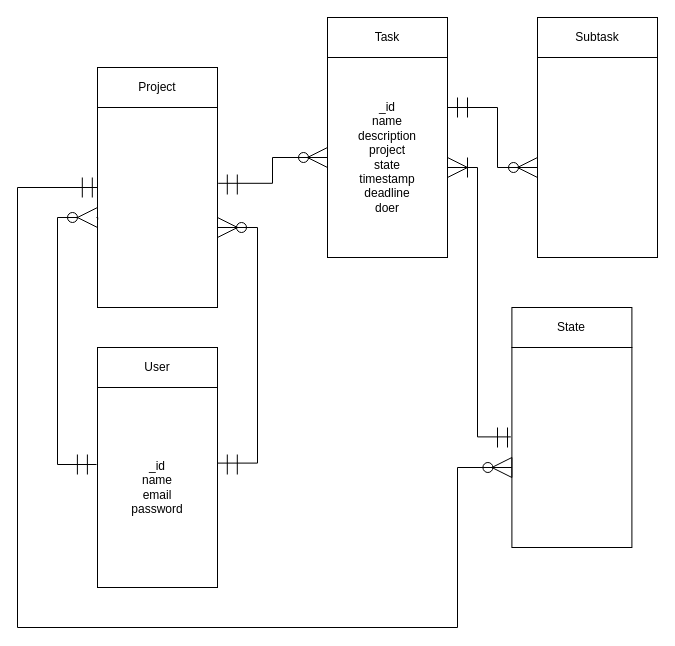
The diagram is 675 pixels wide and 646 high, and some of its shapes have lost their labels. The shapes that lost their labels are listed below. From the top down, each one's centre as x and y in pixels, then its label:
pixel 597 157: _id description task done
pixel 157 207: _id name boss doers[]
pixel 571 447: _id name project
